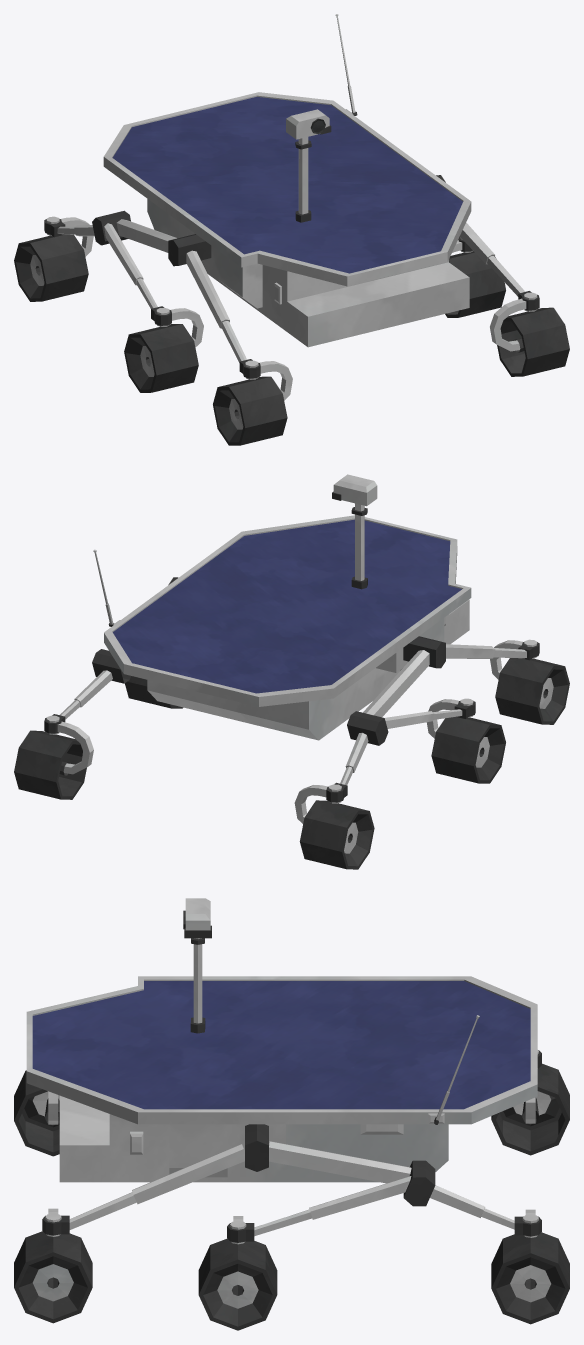
Rendered from Rover.glb.
The picture shows the model from 3 angles, top to bottom: view 1: azimuth 30°, elevation 25°; view 2: azimuth 150°, elevation 25°; view 3: azimuth 270°, elevation 25°; orthographic projection. The views are drawn at different scales.
Parts seen in each view (by area): view 1: Body, FrontWheel_R, MidWheel_R, RearWheel_R, FrontWheel_L, MidWheel_L; view 2: Body, RearWheel_R, FrontWheel_R, MidWheel_R, RearWheel_L, MidWheel_L; view 3: Body, MidWheel_L, RearWheel_L, FrontWheel_L, RearWheel_R, FrontWheel_R.
Boxes of the visible parts, box(x1,y1,x2,y2) form: Body: box(44, 14, 539, 400); FrontWheel_R: box(213, 376, 287, 445); MidWheel_R: box(124, 324, 198, 392); RearWheel_R: box(14, 234, 88, 301); FrontWheel_L: box(497, 307, 569, 376); MidWheel_L: box(445, 251, 505, 317); Body: box(44, 474, 539, 823); RearWheel_R: box(299, 800, 374, 869); FrontWheel_R: box(495, 658, 569, 724); MidWheel_R: box(431, 717, 505, 783); RearWheel_L: box(14, 730, 86, 799); MidWheel_L: box(125, 676, 183, 708); Body: box(26, 898, 541, 1244); MidWheel_L: box(198, 1238, 277, 1330); RearWheel_L: box(491, 1232, 569, 1324); FrontWheel_L: box(14, 1231, 92, 1323); RearWheel_R: box(491, 1063, 569, 1155); FrontWheel_R: box(14, 1070, 59, 1156).
Bounding box in the file's own units: 96.72 × 67.01 × 110.
Materials: 1 (1 with a texture image).
